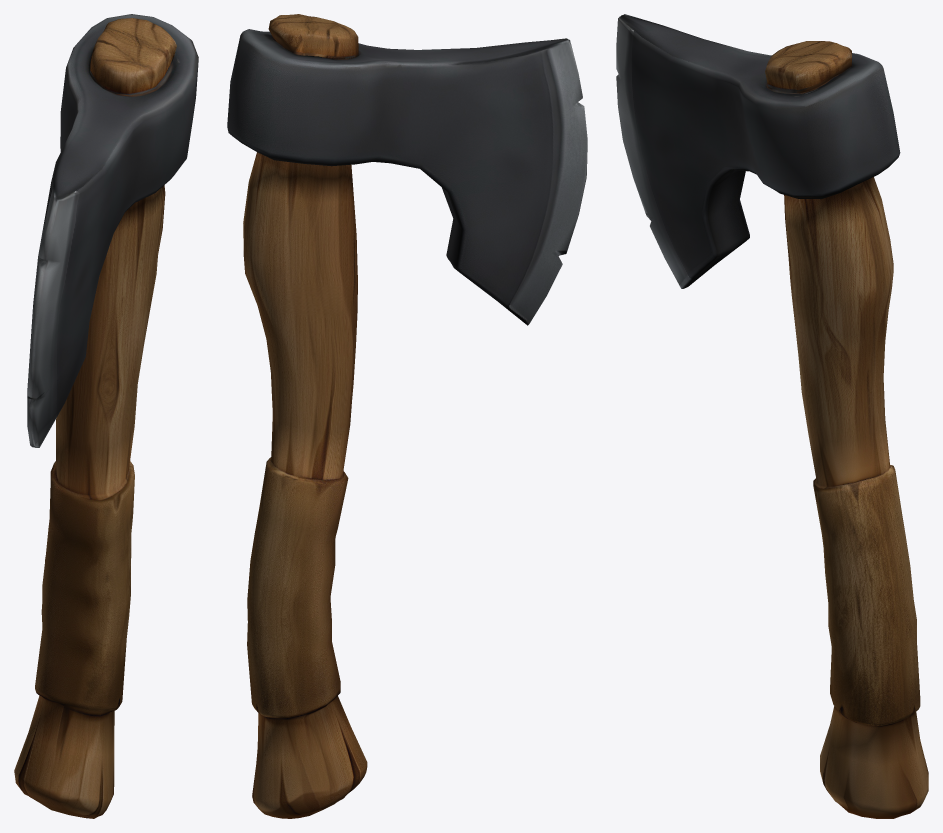
The model's file is axe.glb.
The picture shows the model from 3 angles, left to right: view 1: azimuth 30°, elevation 25°; view 2: azimuth 150°, elevation 25°; view 3: azimuth 270°, elevation 25°; orthographic projection. The views are drawn at different scales.
Visible parts, largest first — view 1: tripo_node_fb890ffd-06e2-4ec3-b074-f6dbef7bdaa2; view 2: tripo_node_fb890ffd-06e2-4ec3-b074-f6dbef7bdaa2; view 3: tripo_node_fb890ffd-06e2-4ec3-b074-f6dbef7bdaa2.
Boxes of the visible parts, left/top/right/bottom form: tripo_node_fb890ffd-06e2-4ec3-b074-f6dbef7bdaa2: left=14, top=14, right=198, bottom=818; tripo_node_fb890ffd-06e2-4ec3-b074-f6dbef7bdaa2: left=227, top=14, right=587, bottom=818; tripo_node_fb890ffd-06e2-4ec3-b074-f6dbef7bdaa2: left=616, top=14, right=928, bottom=818.
Bounding box in the file's own units: 0.3418 × 0.998 × 0.3652.
Materials: 1 (1 with a texture image).
